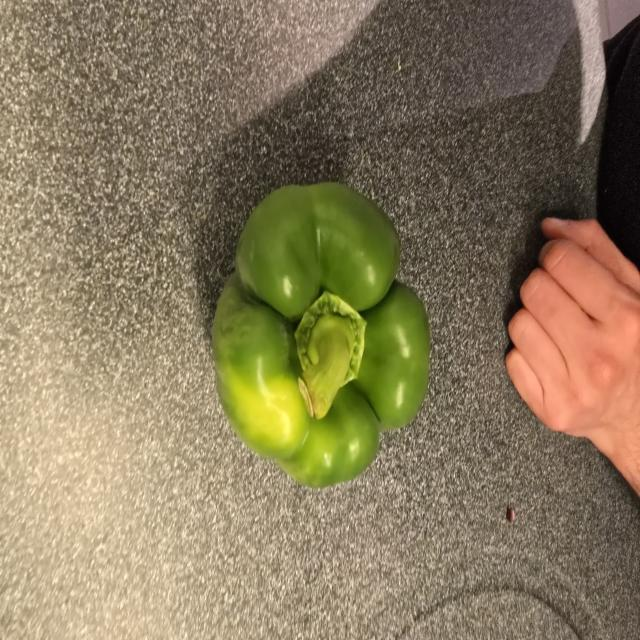Bell Pepper: (206, 174, 436, 497)
